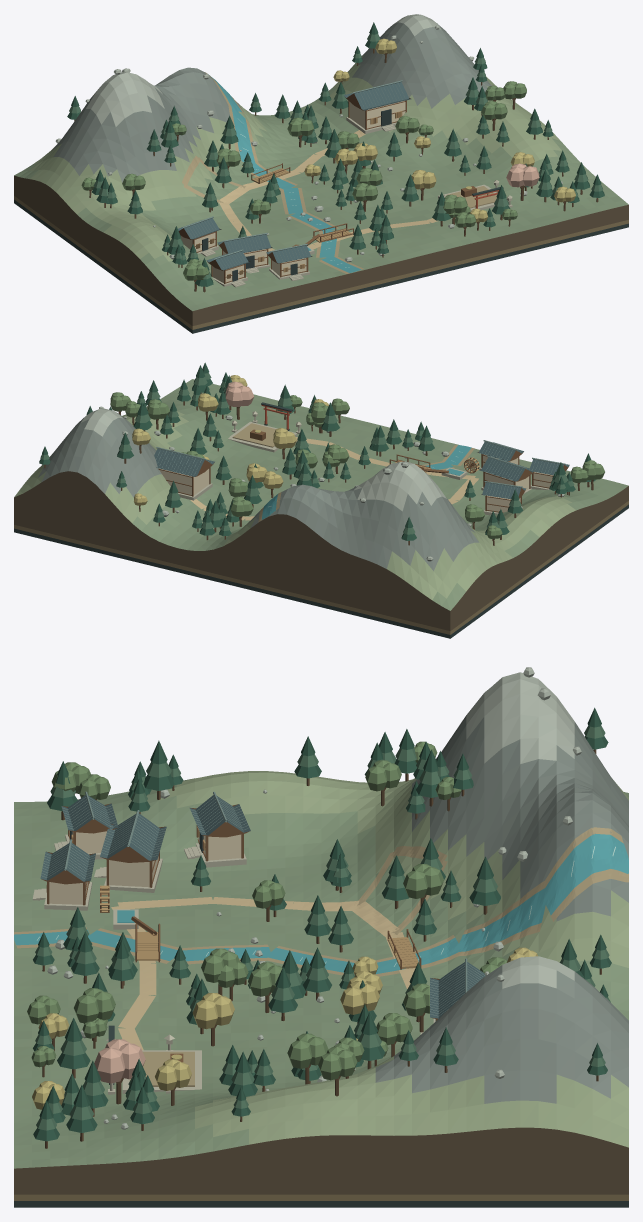
Rendered from mirror-valley.obj.
3 renders of one model, top to bottom at view 1: azimuth 30°, elevation 25°; view 2: azimuth 150°, elevation 25°; view 3: azimuth 270°, elevation 25°, orthographic. The views are drawn at different scales.
Visible parts, largest first — view 1: terrain, vegetation, architecture, roofs, water, routes, details; view 2: terrain, vegetation, architecture, roofs, details, water, routes; view 3: terrain, vegetation, water, roofs, architecture, routes, details.
Boxes of the visible parts, x1,y1,x2,y2 form: terrain: (14,14,628,333); vegetation: (67,22,604,292); architecture: (181,100,508,287); roofs: (178,80,411,270); water: (205,72,363,273); routes: (182,130,438,251); details: (55,25,562,278); terrain: (14,379,628,638); vegetation: (39,362,604,545); architecture: (158,402,553,515); roofs: (154,440,569,499); details: (99,406,564,561); water: (258,444,474,522); routes: (190,437,478,520); terrain: (14,672,628,1207); vegetation: (27,707,611,1148); water: (14,827,628,976); roofs: (40,791,485,1019); architecture: (32,825,437,1093); routes: (111,846,447,1050); details: (46,667,581,1129).
Bounding box in the file's own units: 120 × 35.95 × 85.
